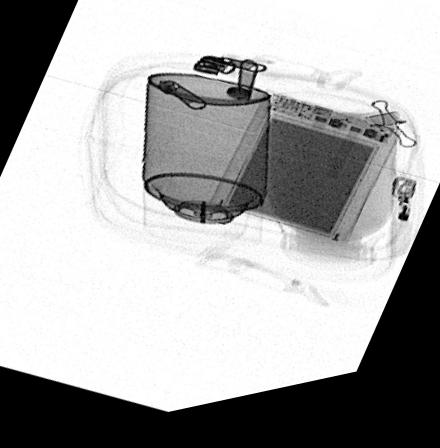Lighter: (388, 192, 417, 275)
Powerbank: (208, 100, 399, 257)
Sprayer: (141, 78, 270, 263)
